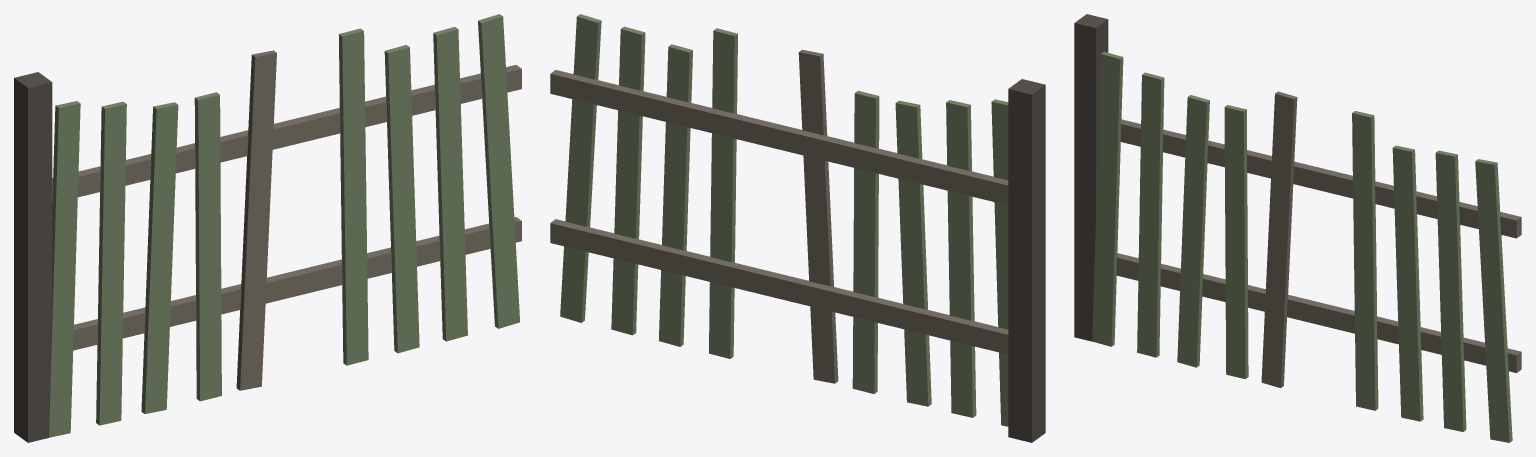
Rendered from fence_wood_1.glb.
The picture shows the model from 3 angles, left to right: view 1: azimuth 30°, elevation 25°; view 2: azimuth 150°, elevation 25°; view 3: azimuth 330°, elevation 25°; orthographic projection. The views are drawn at different scales.
Visible parts, largest first — view 1: FenceWood; view 2: FenceWood; view 3: FenceWood.
Boxes of the visible parts, x1,y1,x2,y2 form: FenceWood: (14,14,521,442); FenceWood: (550,14,1045,442); FenceWood: (1074,14,1521,442).
Size of the model in its own units: 2.05 by 1.4 by 0.1025.
